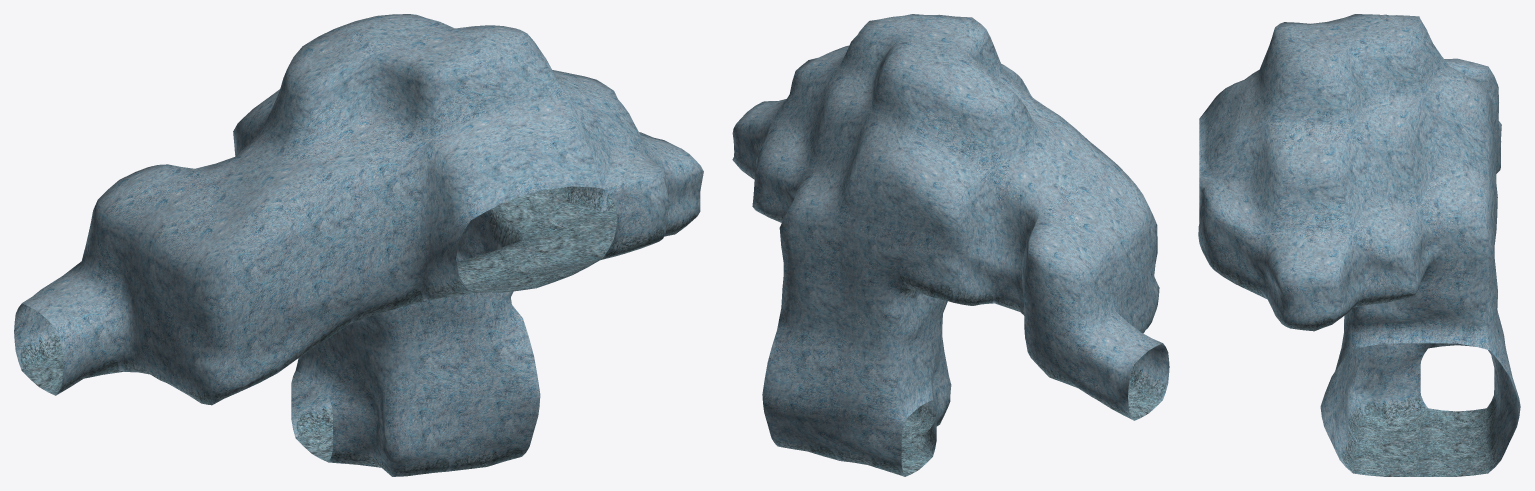
Rendered from thm_all_cave_s03_ice_r22_r22.fbx.
3 renders of one model, left to right at view 1: azimuth 30°, elevation 25°; view 2: azimuth 150°, elevation 25°; view 3: azimuth 270°, elevation 25°, orthographic. The views are drawn at different scales.
Parts seen in each view (by area): view 1: mesh_node; view 2: mesh_node; view 3: mesh_node.
Part boxes in pixels (bbox=[...]): mesh_node: bbox=[14, 14, 703, 476]; mesh_node: bbox=[732, 14, 1169, 476]; mesh_node: bbox=[1198, 14, 1520, 476].
Bounding box in the file's own units: 63.36 × 48.59 × 34.97.
